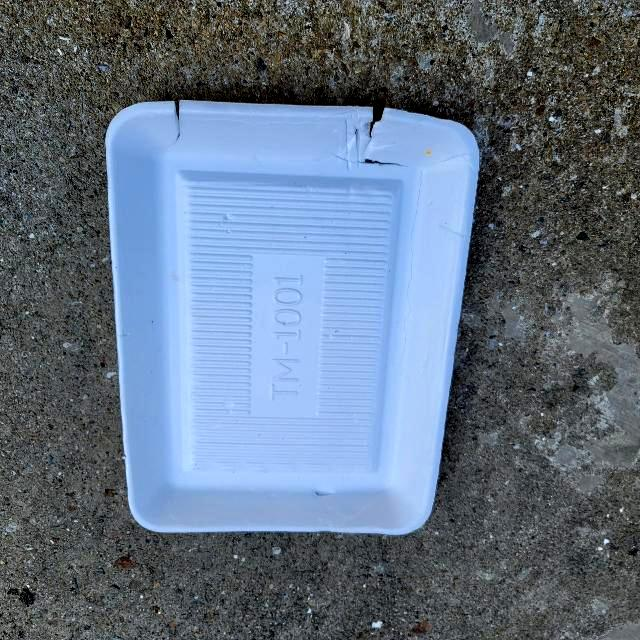Styrofoam: (105, 98, 482, 534), (105, 100, 480, 535)
